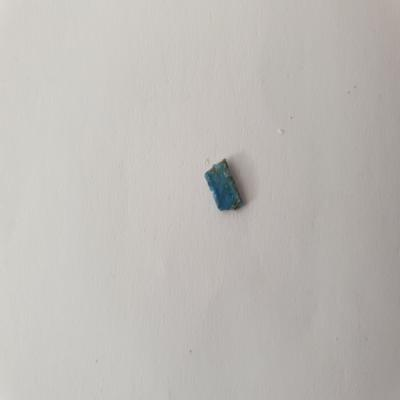plastic: (203, 155, 252, 218)
